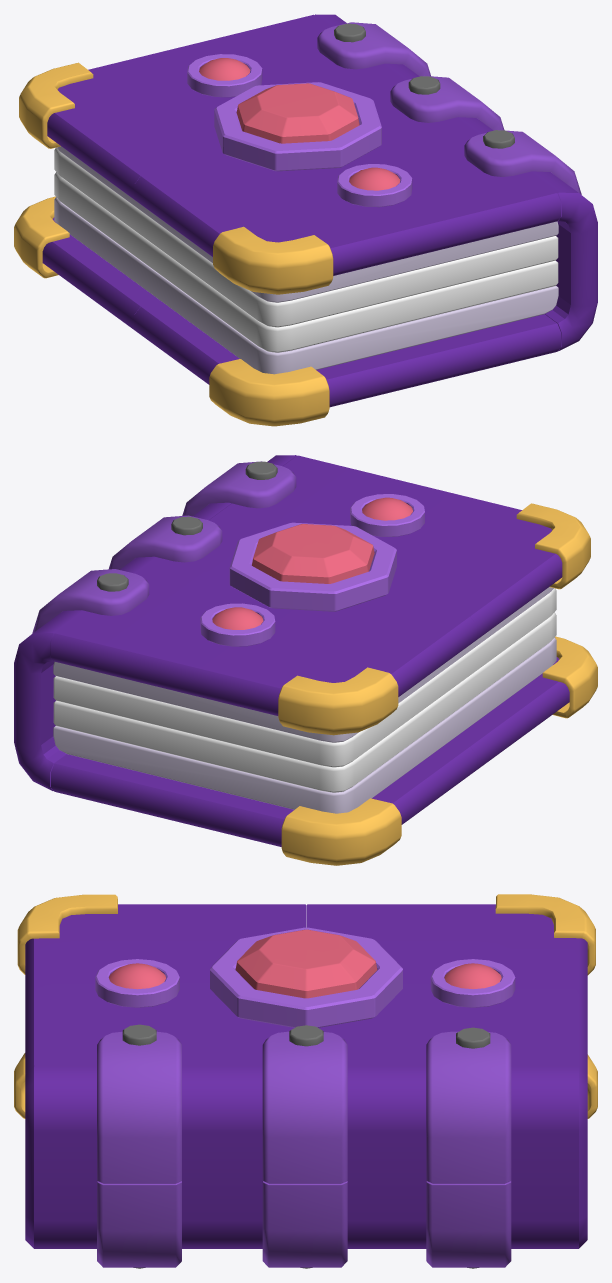
File: Book_md207.fbx
3 views of the same model, one above another, from view 1: azimuth 30°, elevation 25°; view 2: azimuth 150°, elevation 25°; view 3: azimuth 270°, elevation 25° (orthographic). The views are drawn at different scales.
Parts seen in each view (by area): view 1: LV2, LV3, LV1; view 2: LV2, LV3, LV1; view 3: LV2, LV1.
Boxes of the visible parts, left/top/right/bottom form: LV2: left=14, top=14, right=597, bottom=426; LV3: left=54, top=146, right=558, bottom=374; LV1: left=187, top=23, right=514, bottom=207; LV2: left=14, top=455, right=597, bottom=865; LV3: left=53, top=587, right=556, bottom=813; LV1: left=97, top=461, right=424, bottom=646; LV2: left=14, top=894, right=597, bottom=1267; LV1: left=95, top=927, right=515, bottom=1268.
Bounding box in the file's own units: 5.39 × 3.05 × 6.62.
